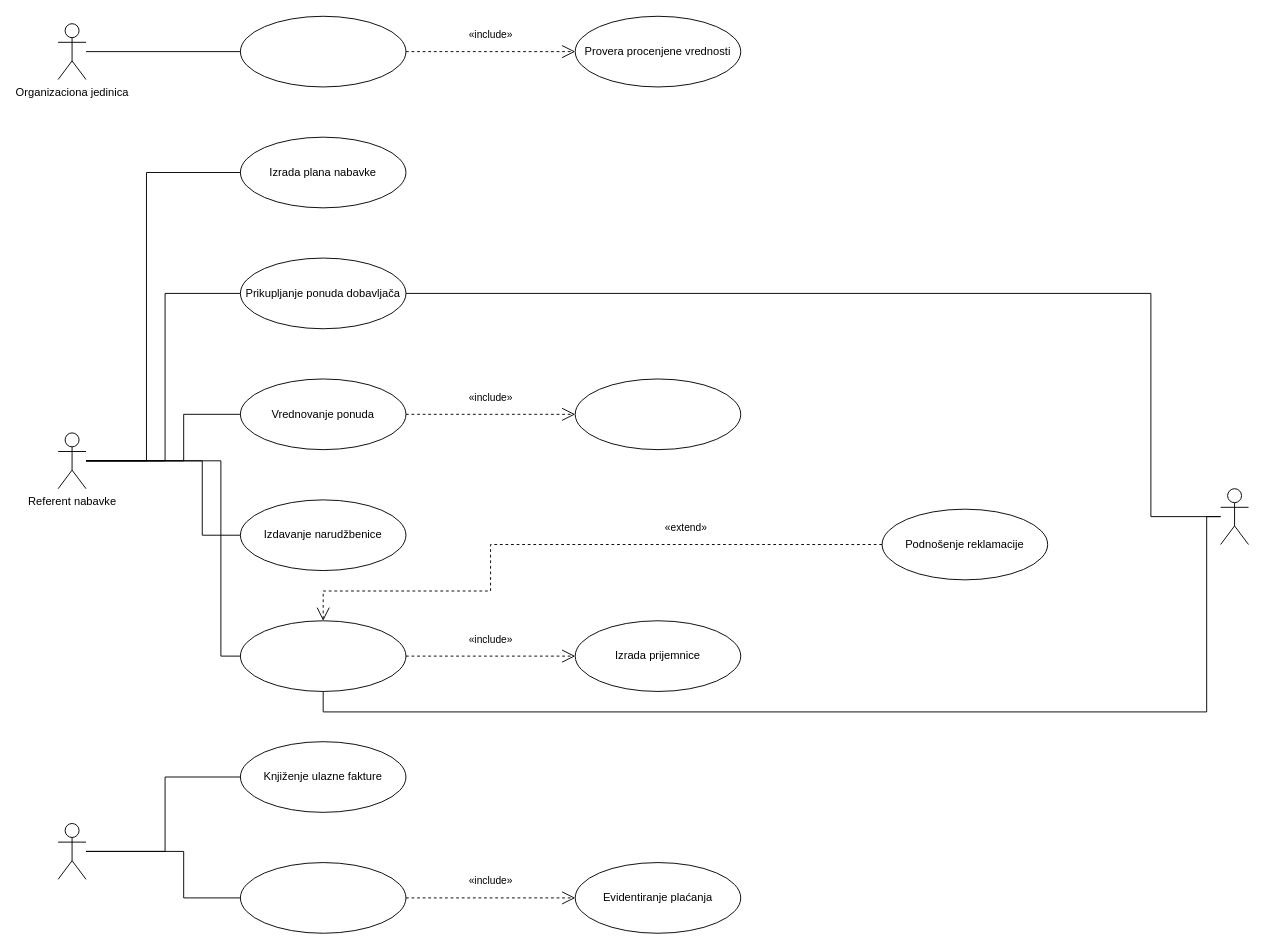
This 1275x950 diagram has some shape labels left out. Each missing label, with the centre of its shape:
Bodovanje po kriterijumima: the point at 657,414
Dobavljač: the point at 1234,516
Finansijska služba: the point at 71,851
Izdavanje naloga za plaćanje: the point at 322,897
Podnošenje zahteva za nabavku: the point at 322,51
Prijem isporuke: the point at 322,655
